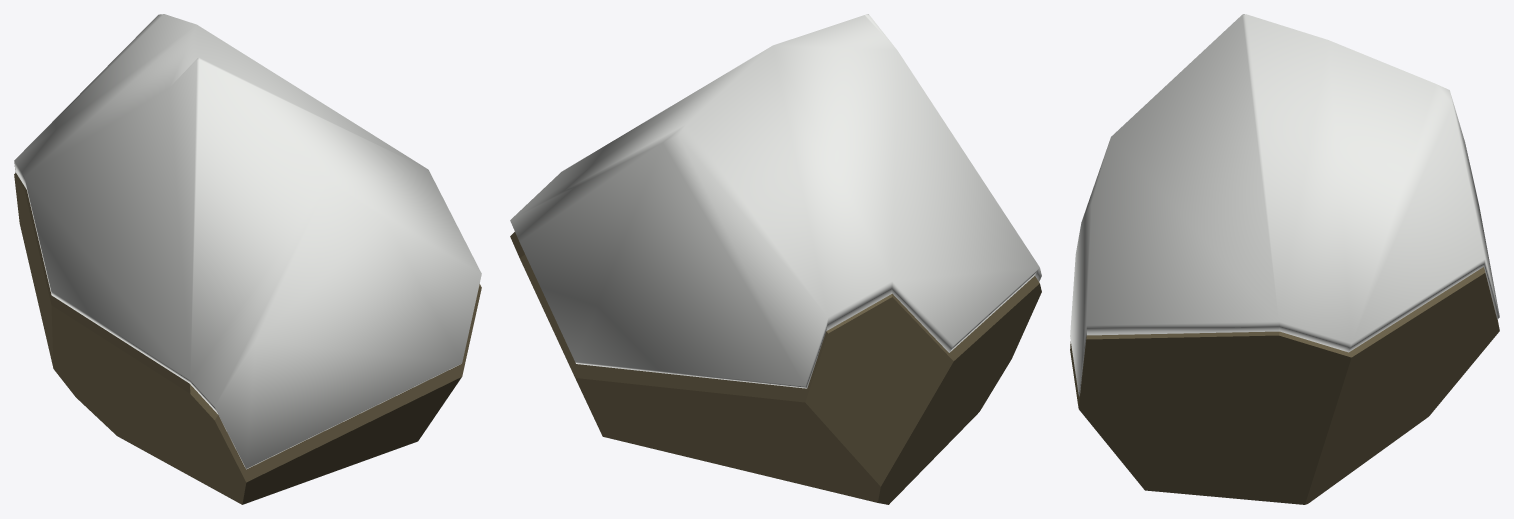
File: WinterRockSmall.gltf
3 renders of one model, left to right at view 1: azimuth 30°, elevation 25°; view 2: azimuth 150°, elevation 25°; view 3: azimuth 270°, elevation 25°, orthographic. The views are drawn at different scales.
Visible parts, largest first — view 1: snow.001, Rock_small; view 2: snow.001, Rock_small; view 3: snow.001, Rock_small.
Part boxes in pixels (x1,y1,x2,y2): snow.001: (14,14,481,469); Rock_small: (14,173,481,504); snow.001: (510,14,1041,388); Rock_small: (510,232,1041,504); snow.001: (1070,14,1499,396); Rock_small: (1070,267,1499,504).
Bounding box in the file's own units: 0.5558 × 0.563 × 0.5586.
